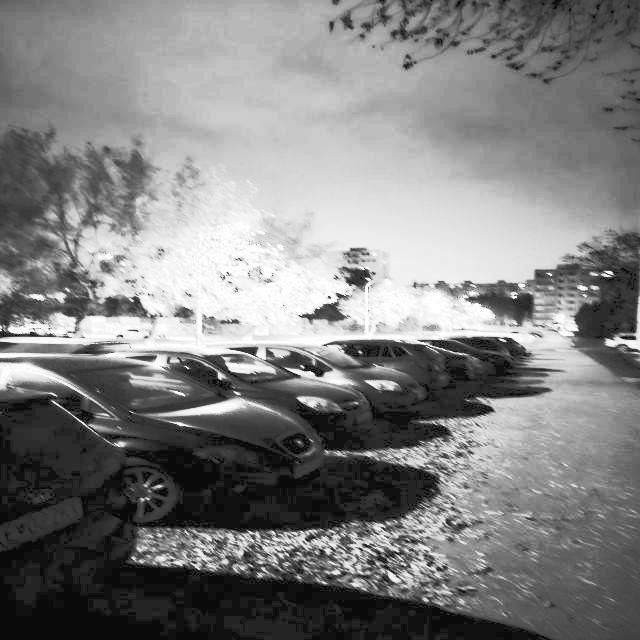Light: (189, 211, 256, 350), (358, 272, 396, 339)
